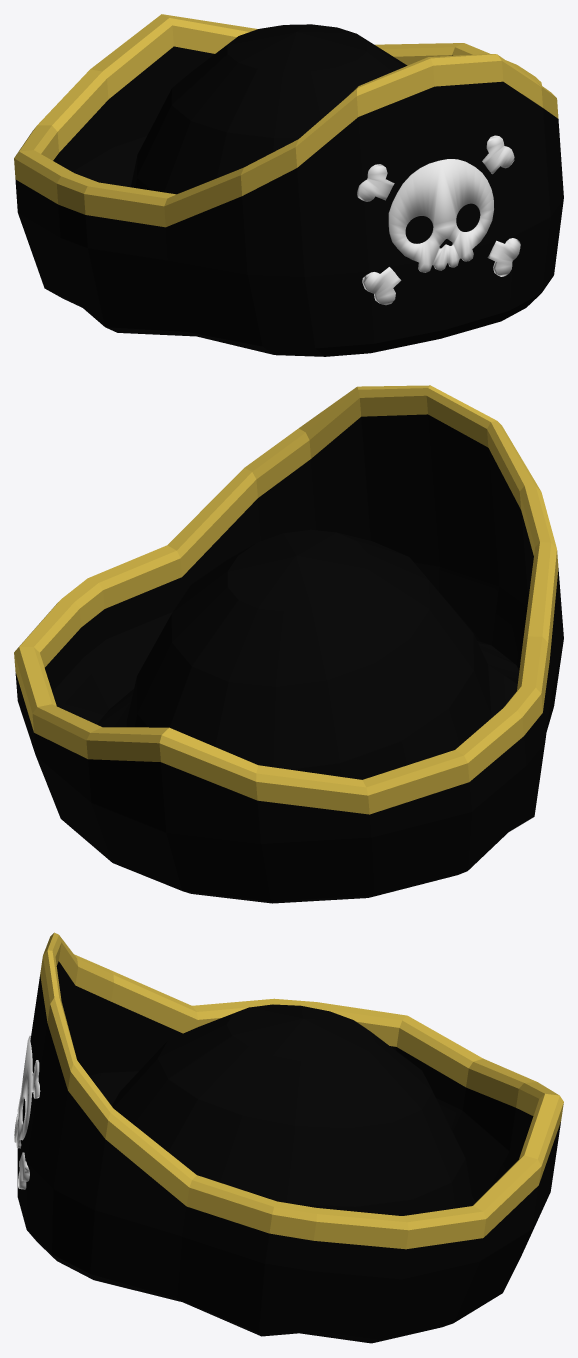
Rendered from pirateHat.fbx.
3 renders of one model, top to bottom at view 1: azimuth 30°, elevation 25°; view 2: azimuth 150°, elevation 25°; view 3: azimuth 270°, elevation 25°, orthographic. The views are drawn at different scales.
Visible parts, largest first — view 1: Hat.003, Hatskull.001; view 2: Hat.003; view 3: Hat.003, Hatskull.001.
Part boxes in pixels (x1,y1,x2,y2): Hat.003: (14,14,563,356); Hatskull.001: (357,135,520,305); Hat.003: (14,385,563,903); Hat.003: (17,932,563,1343); Hatskull.001: (14,1035,40,1189).
Bounding box in the file's own units: 196 × 134 × 211.
